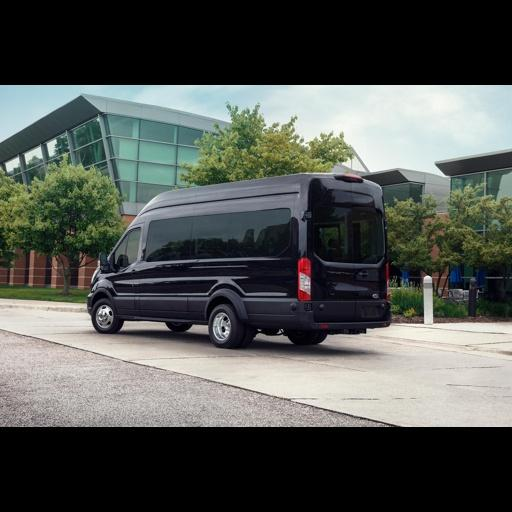van: (88, 176, 393, 350)
